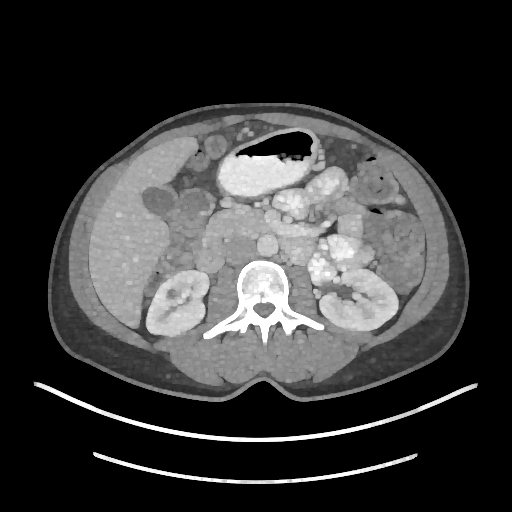Lesion: (163, 287, 181, 303)
